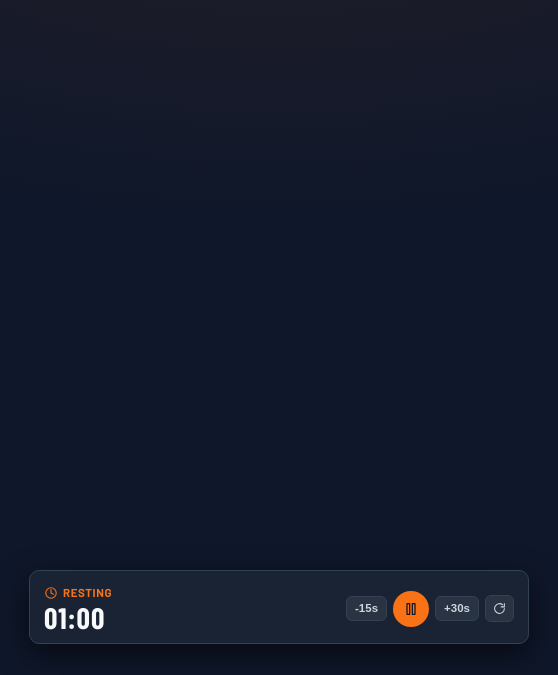
Test: RestTimer Component › pauses and resumes when action button is toggled
The width and height of the screenshot is (558, 675).
Click the button named "pause rest timer": (411, 609) [393,591,429,627]
Wait 5000 ms
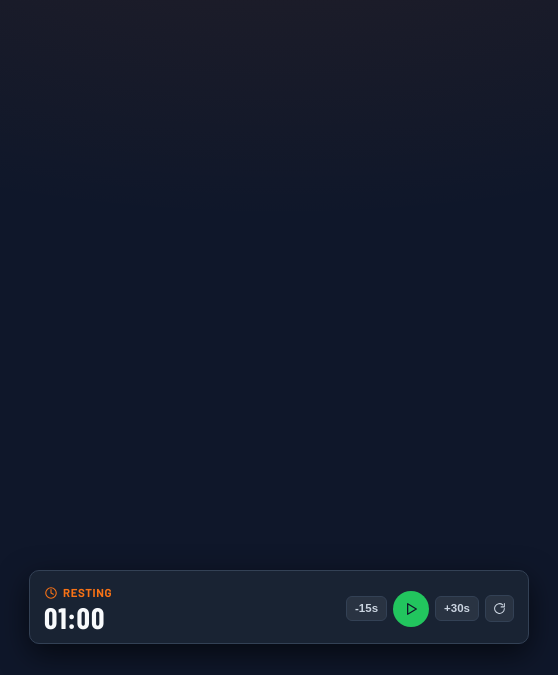
Expected: the text with test id "rest-timer-digits" reads "01:00", [44,599,105,635]
Click the button named "resume rest timer": (411, 609) [393,591,429,627]
Wait 5000 ms
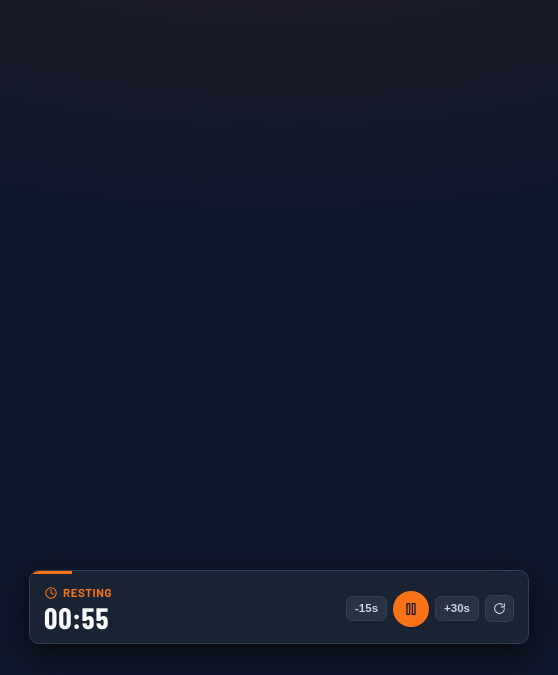
Now the text with test id "rest-timer-digits" reads "00:55", box [44,599,109,635]
